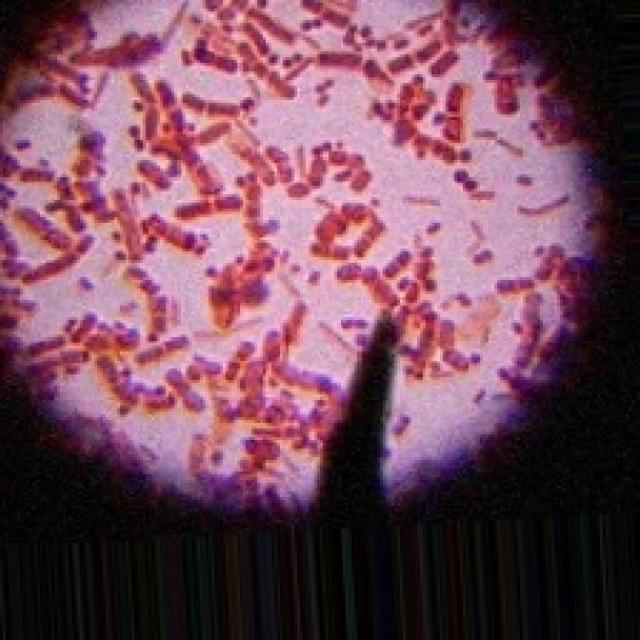Spiral_bacteria: (0, 0, 617, 523)
